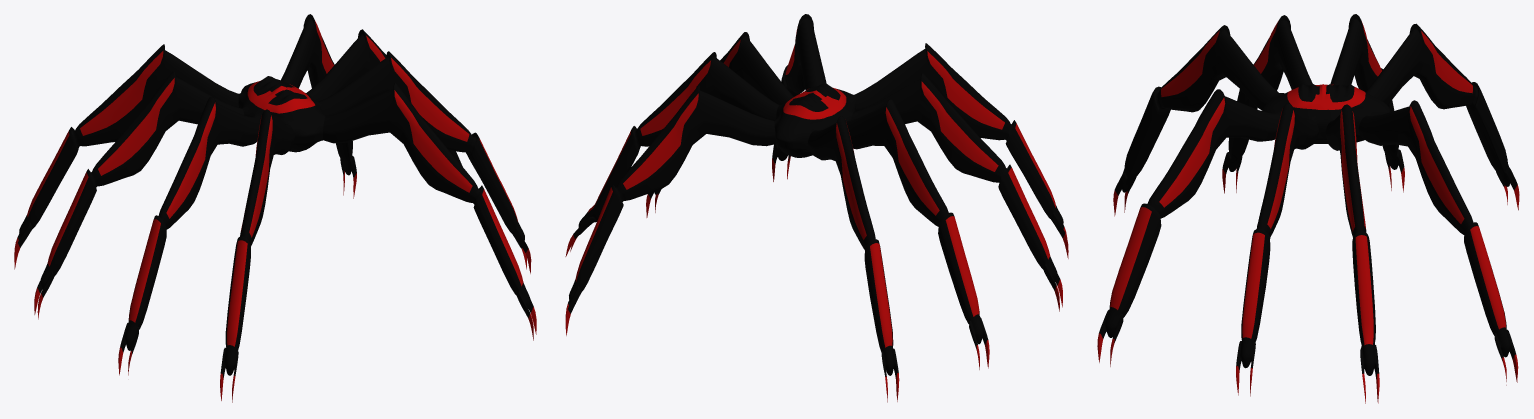
The model's file is spider.fbx.
3 views of the same model, side by side, from view 1: azimuth 30°, elevation 25°; view 2: azimuth 150°, elevation 25°; view 3: azimuth 270°, elevation 25° (orthographic). The views are drawn at different scales.
Parts seen in each view (by area): view 1: spider_leg_geo1, spider_leg_geo7, spider_leg_geo8, spider_leg_geo5, spider_leg_geo2, spider_leg_geo6, spider_body_geo, spider_leg_geo4, spider_leg_geo3; view 2: spider_leg_geo4, spider_leg_geo5, spider_leg_geo7, spider_leg_geo6, spider_leg_geo8, spider_leg_geo3, spider_body_geo, spider_leg_geo1, spider_leg_geo2; view 3: spider_leg_geo1, spider_leg_geo4, spider_leg_geo6, spider_leg_geo8, spider_leg_geo2, spider_leg_geo3, spider_body_geo, spider_leg_geo5, spider_leg_geo7.
Part boxes in pixels (box(x1,y1,x2,y2)): spider_leg_geo1: box(323, 83, 536, 340); spider_leg_geo7: box(34, 71, 244, 319); spider_leg_geo8: box(14, 44, 238, 269); spider_leg_geo5: box(118, 96, 259, 375); spider_leg_geo2: box(318, 51, 531, 273); spider_leg_geo6: box(220, 109, 295, 402); spider_body_geo: box(238, 76, 325, 152); spider_leg_geo4: box(281, 14, 356, 198); spider_leg_geo3: box(307, 29, 462, 166); spider_leg_geo4: box(565, 85, 776, 335); spider_leg_geo5: box(851, 73, 1062, 311); spider_leg_geo7: box(846, 99, 989, 369); spider_leg_geo6: box(855, 43, 1068, 258); spider_leg_geo8: box(807, 116, 899, 402); spider_leg_geo3: box(565, 52, 779, 256); spider_body_geo: box(774, 83, 855, 157); spider_leg_geo1: box(772, 14, 826, 181); spider_leg_geo2: box(646, 32, 793, 217); spider_leg_geo1: box(1097, 89, 1280, 366); spider_leg_geo4: box(1358, 100, 1518, 385); spider_leg_geo6: box(1113, 25, 1278, 216); spider_leg_geo8: box(1366, 23, 1519, 210); spider_leg_geo2: box(1236, 103, 1319, 396); spider_leg_geo3: box(1325, 104, 1379, 403); spider_body_geo: box(1262, 84, 1390, 143); spider_leg_geo5: box(1222, 15, 1312, 193); spider_leg_geo7: box(1330, 14, 1404, 192).
Size of the model in its own units: 610 by 328 by 503.
